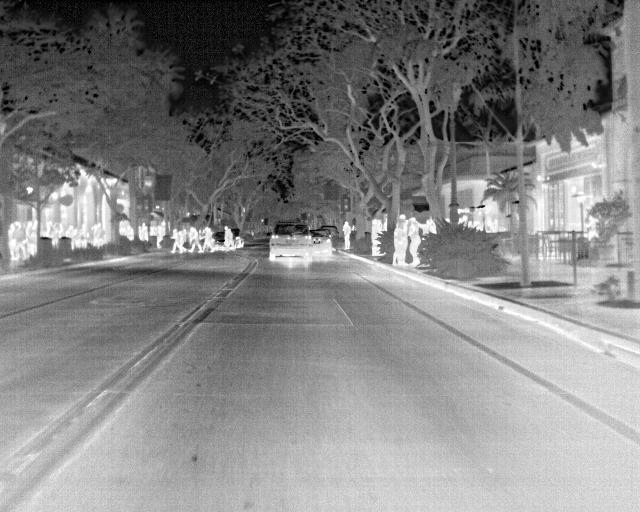bicycle: (269, 221, 315, 259), (310, 232, 333, 254), (230, 228, 246, 250), (211, 230, 224, 249)
empty: (392, 213, 409, 267), (406, 218, 422, 267), (168, 227, 186, 255), (340, 222, 354, 251), (187, 229, 203, 252), (154, 221, 167, 248)
